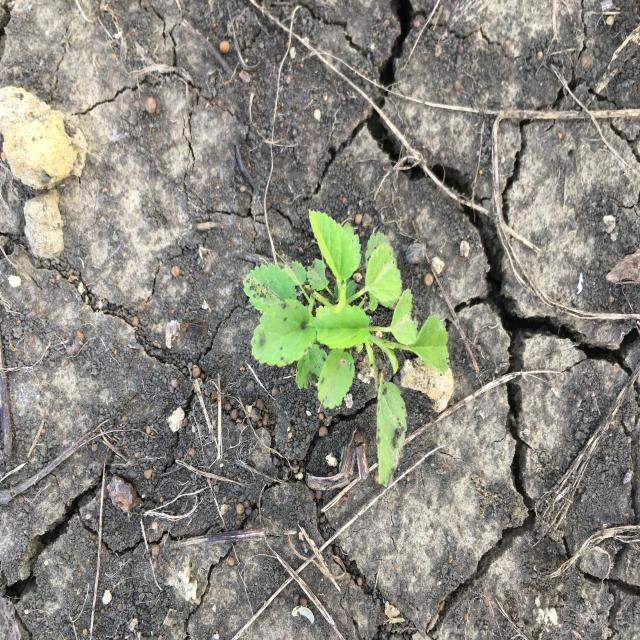PricklySida: (239, 208, 452, 492)
